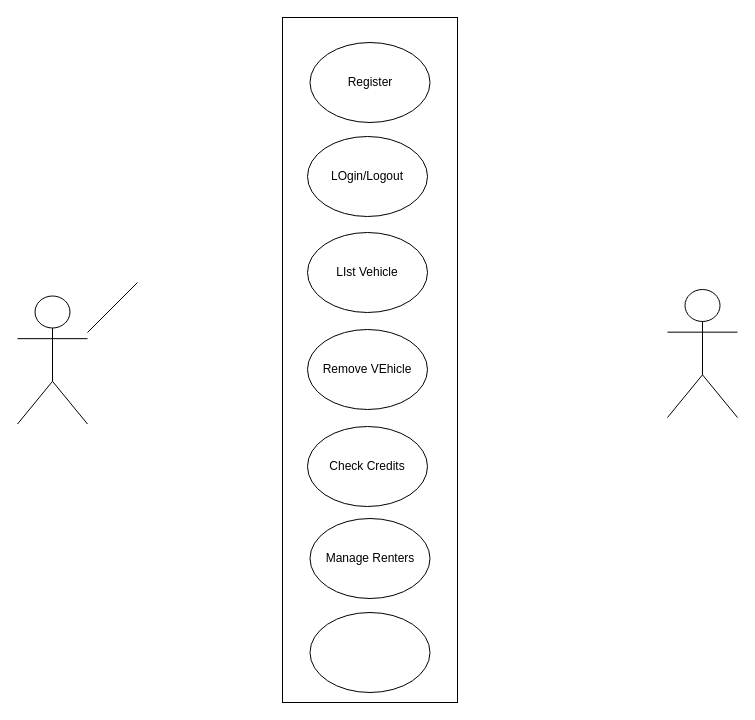
The diagram is 755 pixels wide and 720 high, and some of its shapes have lost their labels. Here are the shapes that lost their labels. From the top down, the box of each, then its label:
(16, 295, 88, 424): Admin
(666, 288, 738, 418): Renter
